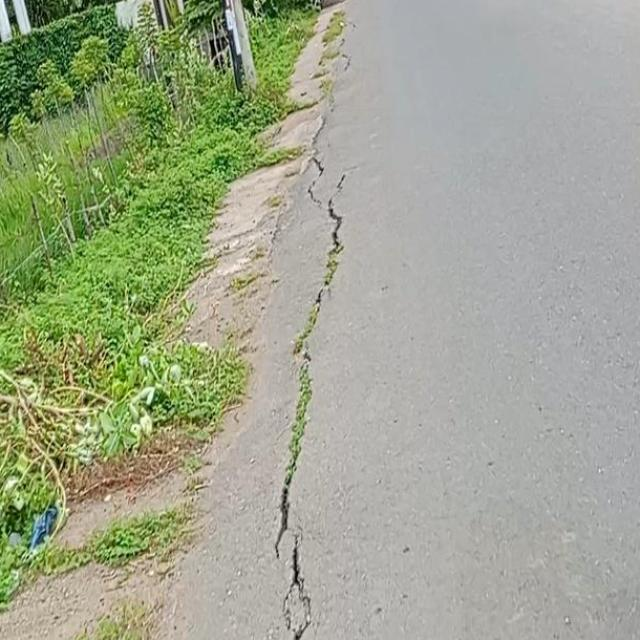Memanjang: (258, 174, 356, 640)
